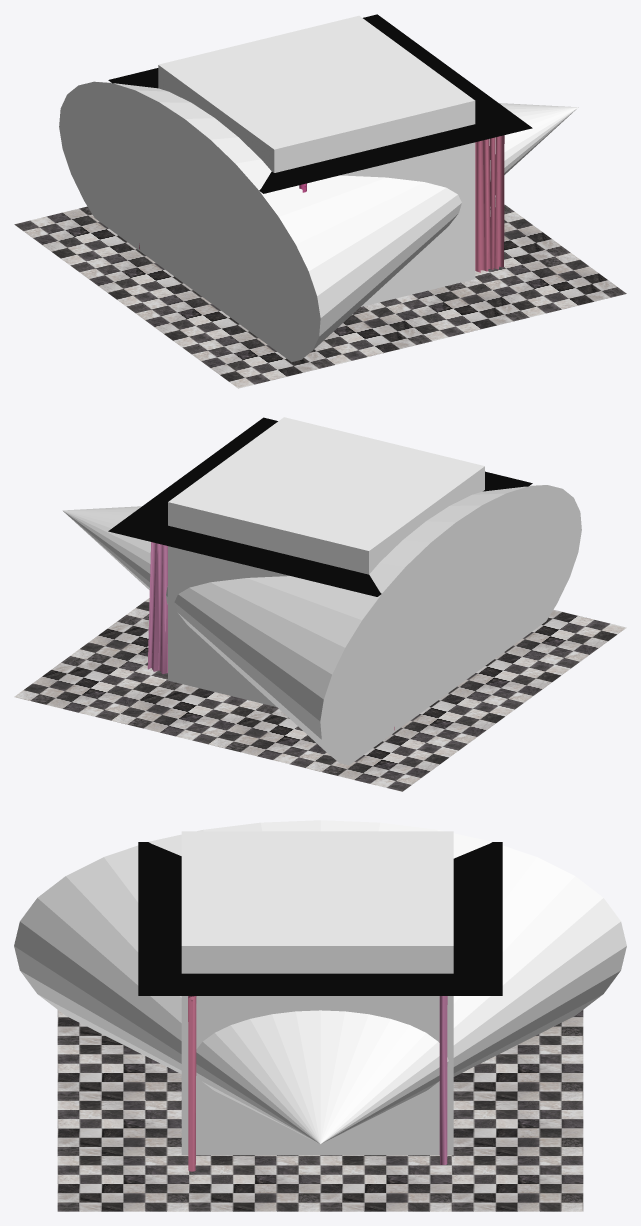
Rendered from dtpAAG.glb.
3 views of the same model, one above another, from view 1: azimuth 30°, elevation 25°; view 2: azimuth 150°, elevation 25°; view 3: azimuth 270°, elevation 25° (orthographic). The views are drawn at different scales.
Visible parts, largest first — view 1: Cone, Cube, Object_2, Plane, curtain-blue&white_color_0.004; view 2: Cone, Cube, Object_2, Plane, curtain-blue&white_color_0.004; view 3: Cone, Object_2, Cube, Plane, curtain-blue&white_color_0.004.
Part boxes in pixels (x1,y1,x2,y2): Cone: [59, 81, 578, 362]; Cube: [158, 15, 475, 306]; Object_2: [14, 198, 626, 388]; Plane: [108, 14, 532, 193]; curtain-blue&white_color_0.004: [139, 135, 504, 272]; Cone: [62, 485, 581, 765]; Cube: [168, 417, 484, 706]; Object_2: [14, 598, 626, 791]; Plane: [108, 417, 532, 596]; curtain-blue&white_color_0.004: [147, 542, 394, 730]; Cone: [14, 820, 626, 1143]; Object_2: [57, 1010, 583, 1211]; Cube: [181, 831, 453, 1155]; Plane: [138, 842, 502, 995]; curtain-blue&white_color_0.004: [188, 996, 447, 1171].
Bounding box in the file's own units: 6.24 × 2.84 × 6.25.
Materials: 12 (2 with a texture image).
